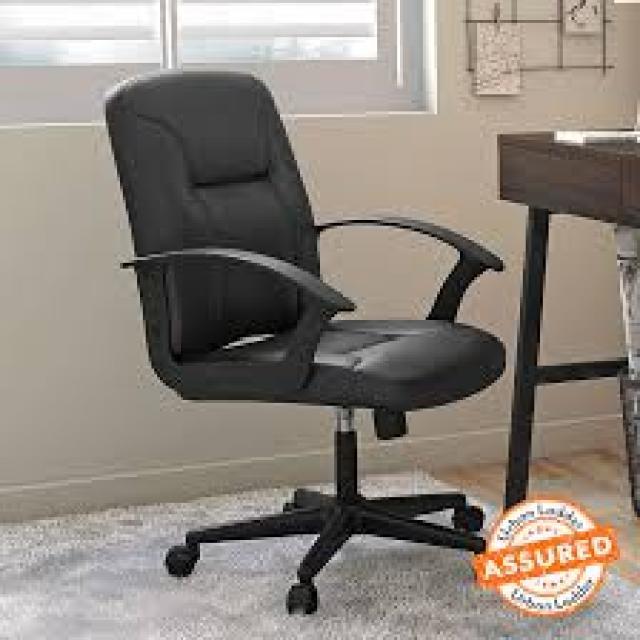chair: (54, 42, 516, 636)
